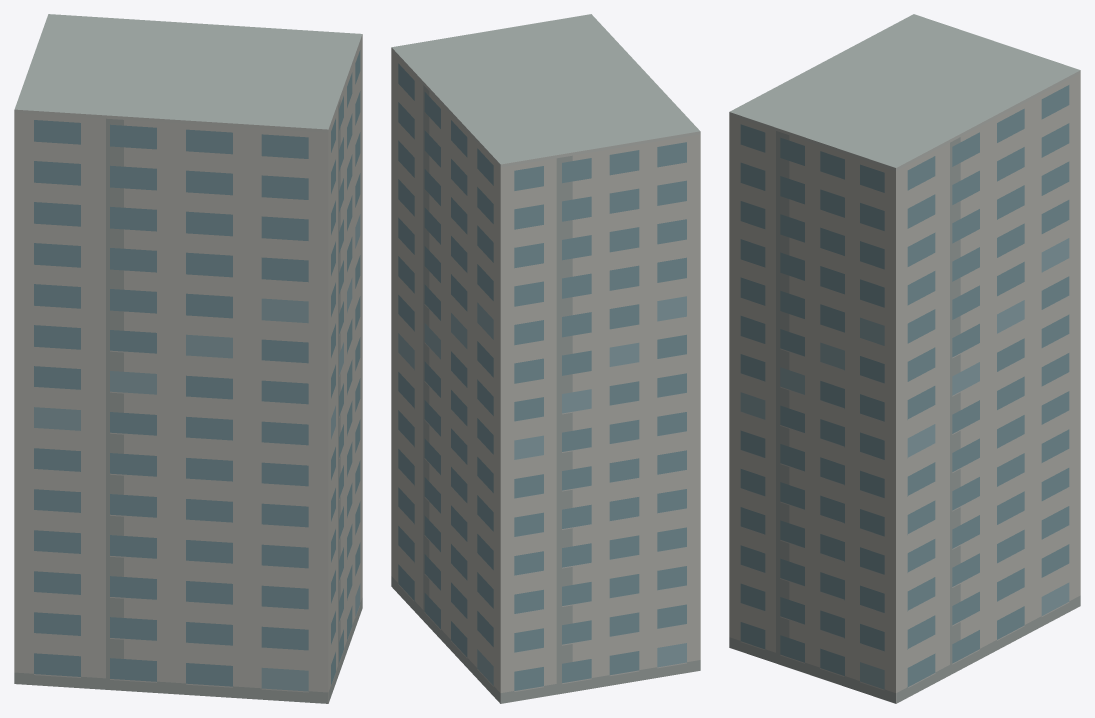
Rendered from residential-cd407815-f997-47f0-98a8-aa39094d657f.glb.
3 views of the same model, side by side, from view 1: azimuth 30°, elevation 25°; view 2: azimuth 150°, elevation 25°; view 3: azimuth 270°, elevation 25° (orthographic). The views are drawn at different scales.
Visible parts, largest first — view 1: residential-cd407815-f997-47f0-98a8-aa39094d657f.tmp; view 2: residential-cd407815-f997-47f0-98a8-aa39094d657f.tmp; view 3: residential-cd407815-f997-47f0-98a8-aa39094d657f.tmp.
Boxes of the visible parts, x1,y1,x2,y2 form: residential-cd407815-f997-47f0-98a8-aa39094d657f.tmp: (14,14,362,703); residential-cd407815-f997-47f0-98a8-aa39094d657f.tmp: (391,14,700,703); residential-cd407815-f997-47f0-98a8-aa39094d657f.tmp: (729,14,1080,703).
Size of the model in its own units: 25.92 by 42 by 24.98.
